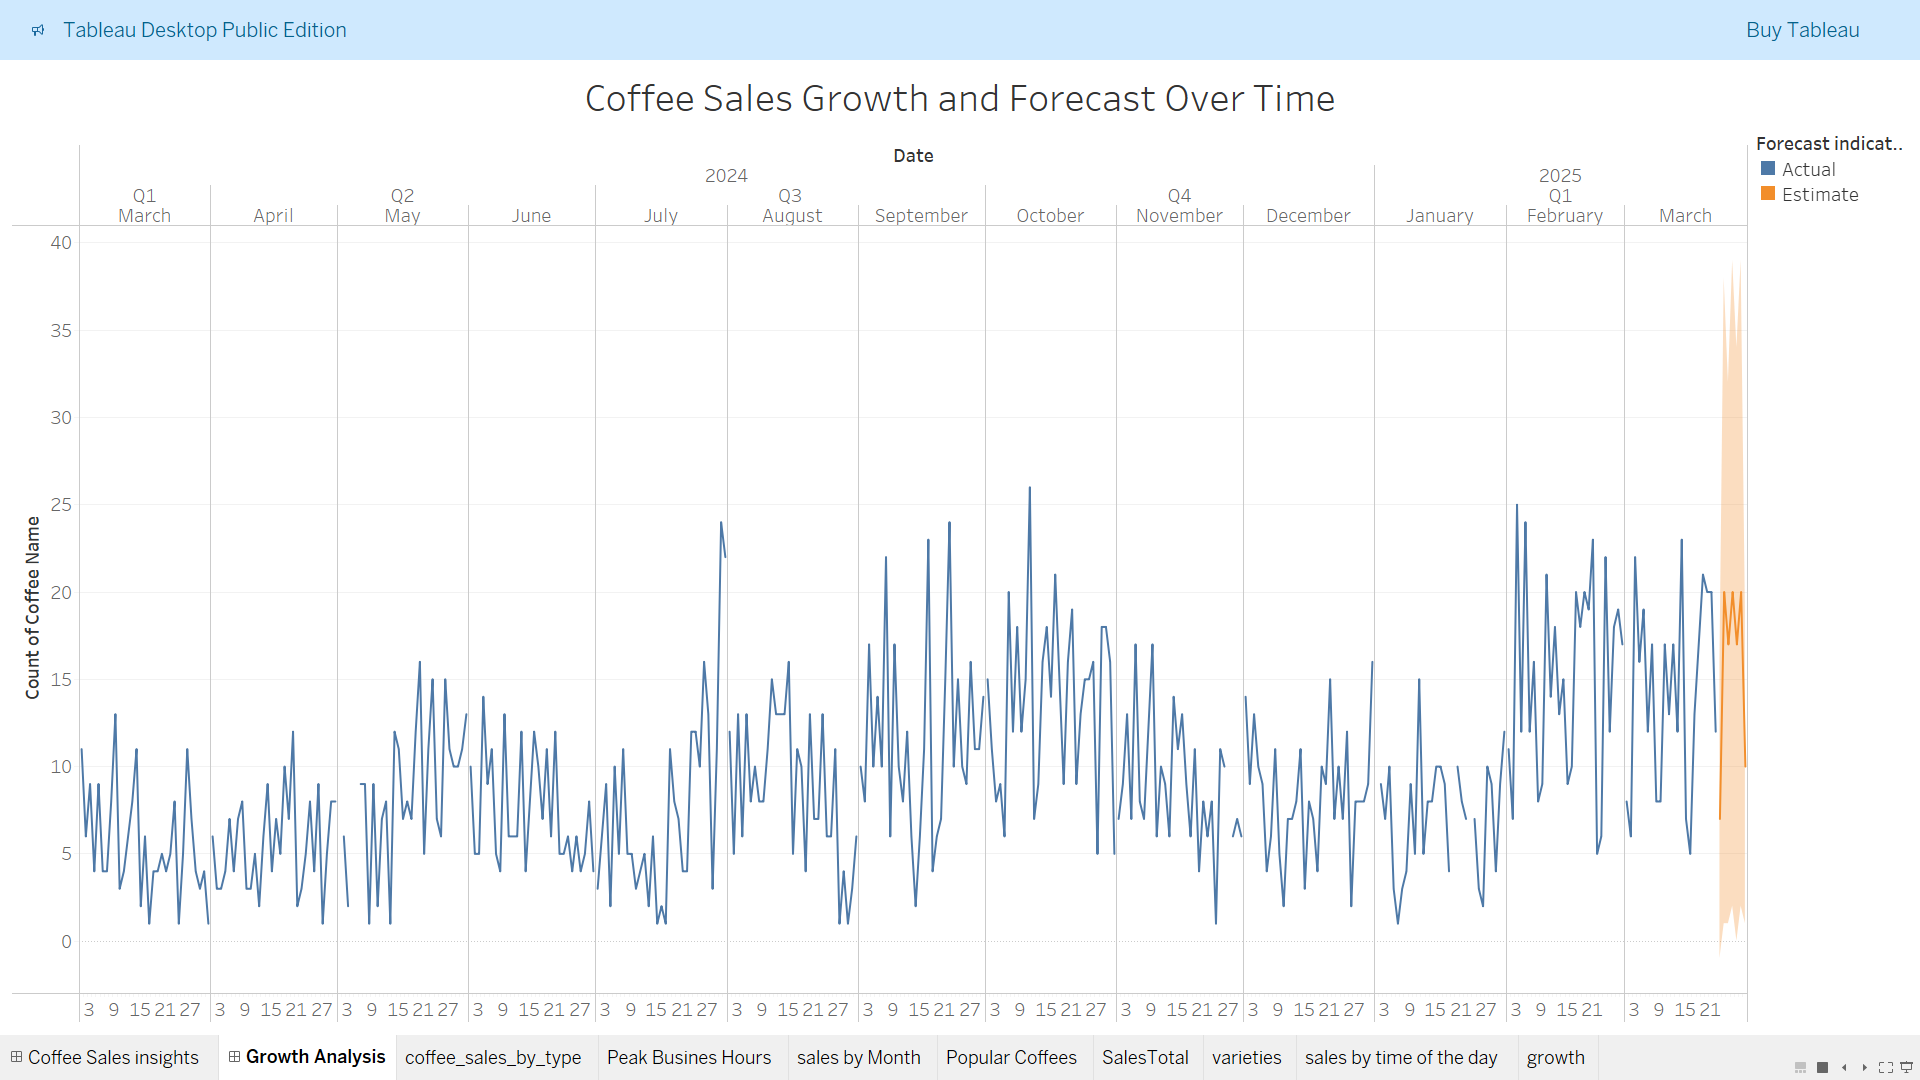

Layout of this report page (visuals, bound fields, positions):
{"tool":"tableau","page":{"name":"Growth Analysis","canvas":[1000,1000],"units":"permille","ordinal":1},"visuals":[{"type":"title","box":[4.2,10.6,991.5,76.5]},{"type":"worksheet","title":"growth","mark":"Automatic","rows":["coffee_name"],"cols":["Date","Date","Date","Date"],"box":[4.2,87.1,906.5,902.4]},{"type":"legend","title":"growth","param":"[federated.0y0u9ac0sgd0431fwuipj1bc2onh].[none:Forecast Indicator:nk]","box":[910.7,87.1,85,110.8]}]}

Visuals, with their boxes on the dashboard's canvas, which has no fixed pixel size, in thousandths of its width and height (x1, y1, x2, y2). These are canvas units, not pixel positions in the 1920x1080 screenshot, which may show the page scaled, cropped or inside an application window:
title: (4,11,996,87)
"growth" worksheet: (4,87,911,990)
"growth" legend: (911,87,996,198)
